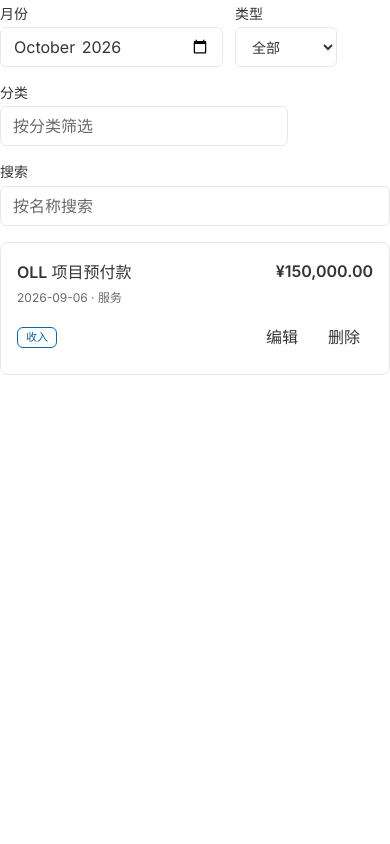
Test: FinanceLedgerPage › 通过抽屉编辑记录并刷新列表
Click the button with aria-label "编辑 OLL 项目预付款".
click(282, 338)  # box top-left (253, 318), bottom-right (311, 358)
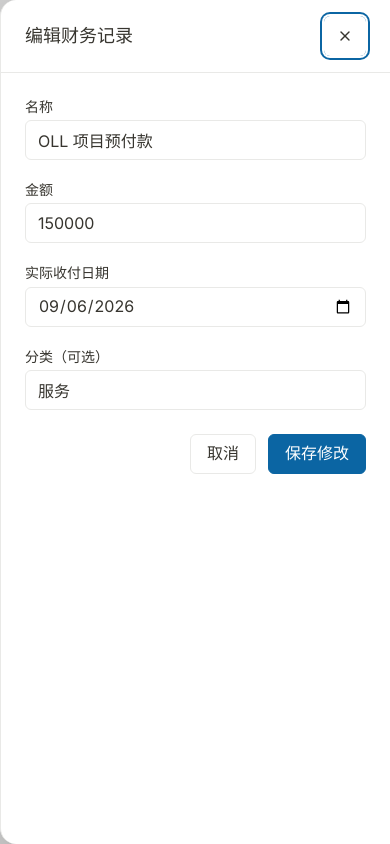
Expected: the dialog shows "编辑财务记录", top-left (25, 25), bottom-right (133, 46)
Replace the text in the field labelled "名称" with "OLL 项目尾款" at (196, 140), box top-left (25, 120), bottom-right (366, 160)
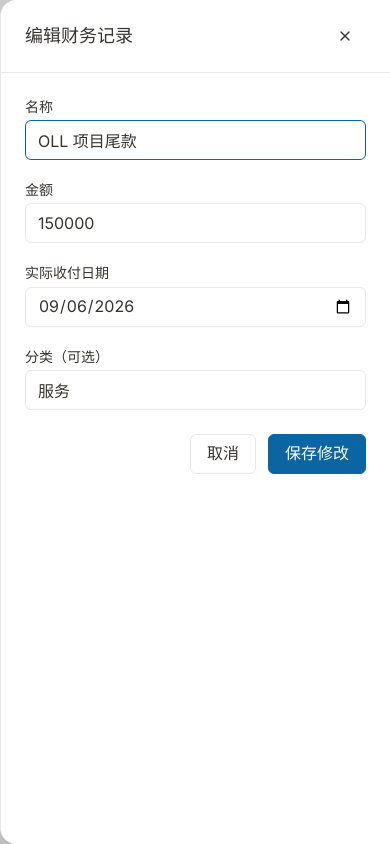
Click the button "保存修改".
click(317, 454)  # box top-left (268, 434), bottom-right (366, 474)
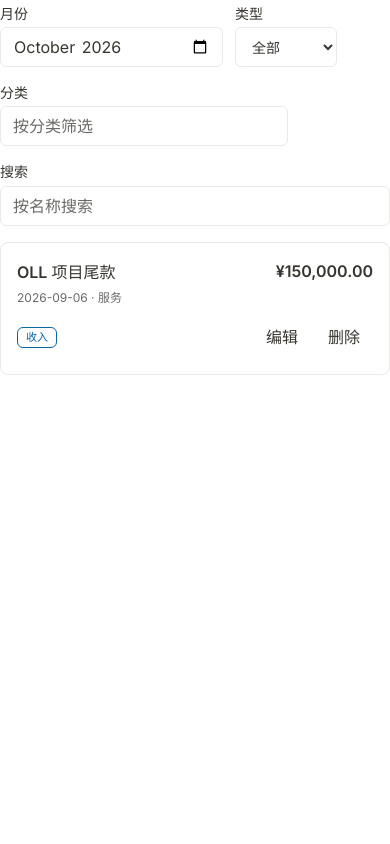
Expected: the text "OLL 项目尾款" is shown, top-left (17, 259), bottom-right (115, 286)
